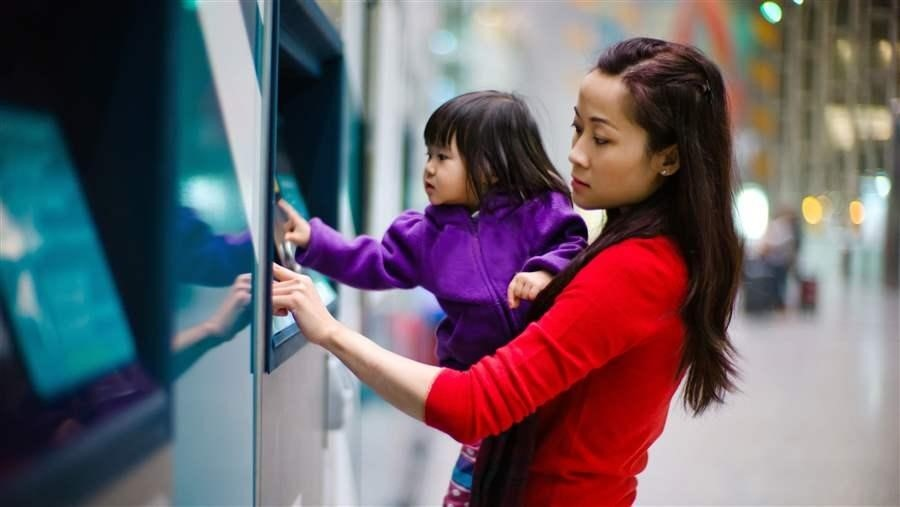face_no_mask: (567, 38, 732, 210), (421, 89, 539, 207)
